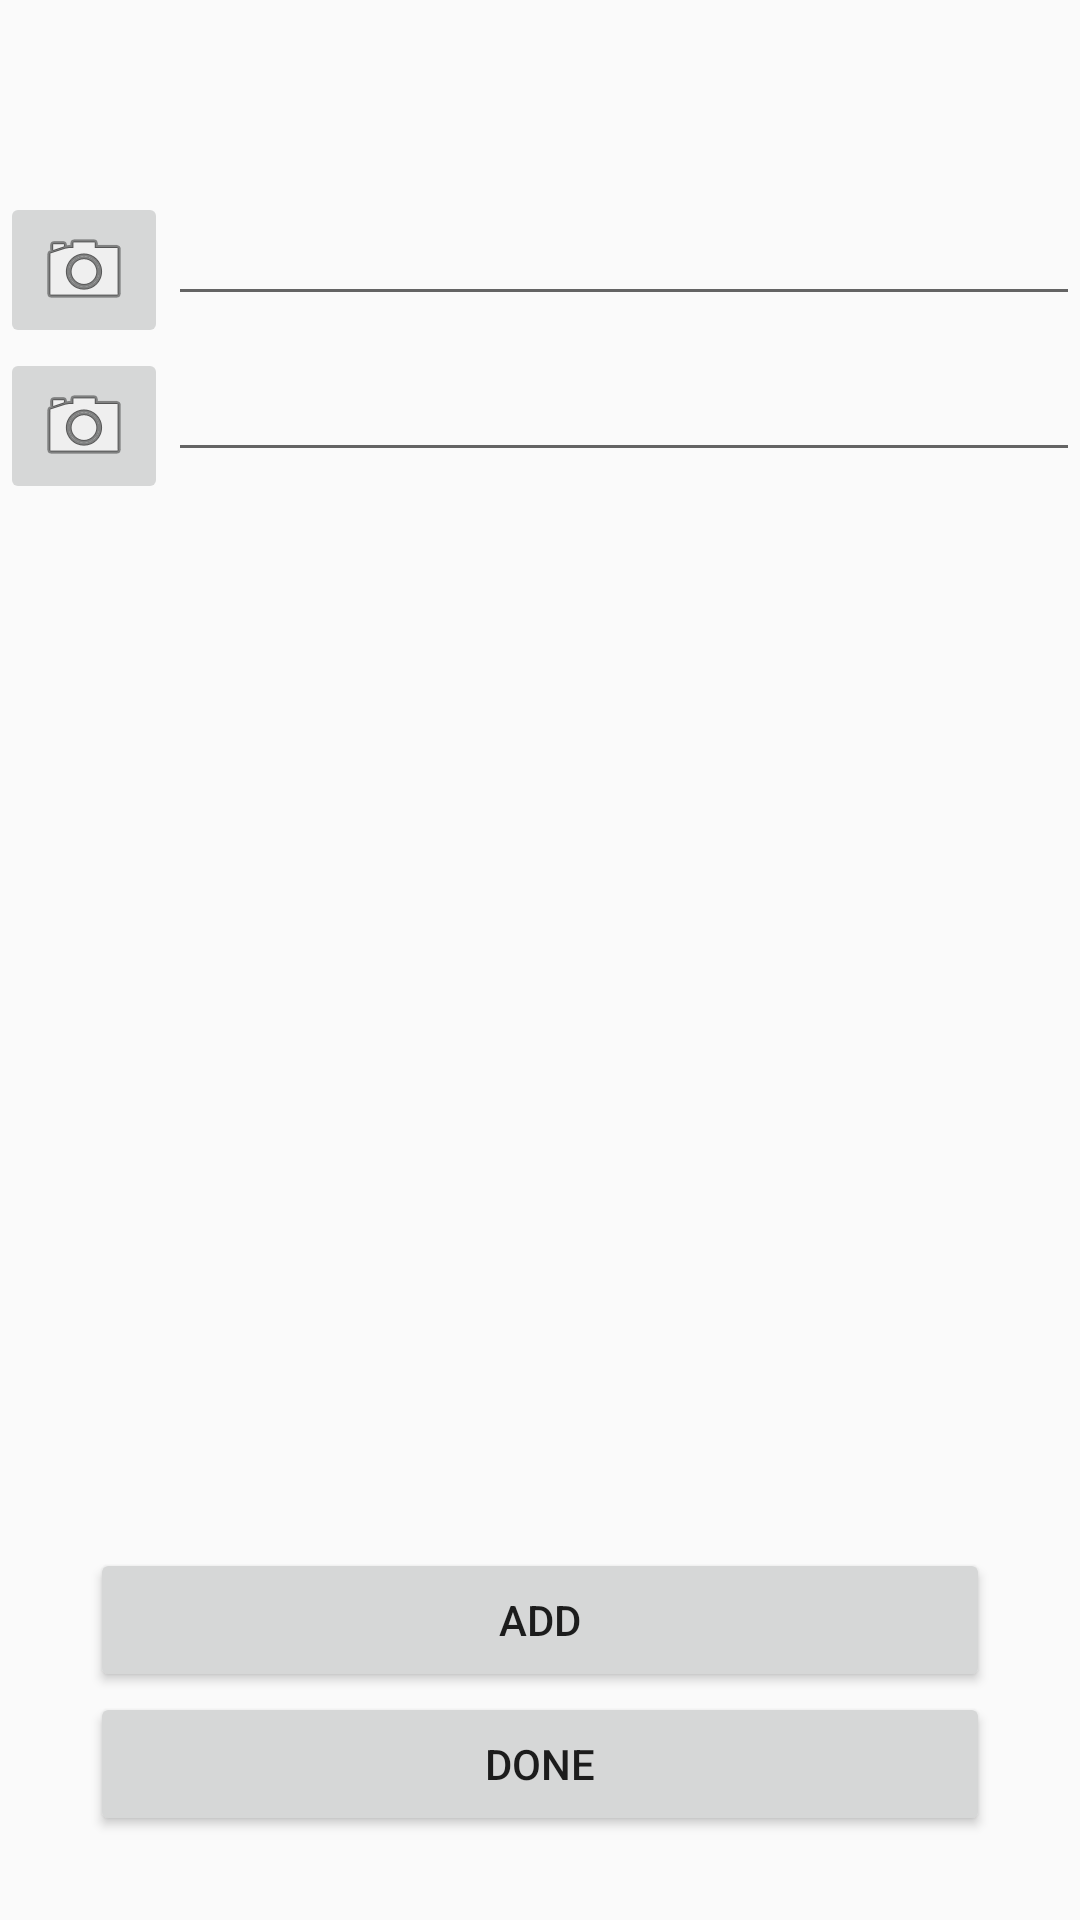

Icons on this 1080 × 1920 Android screen, each with its box as bbox=[x1, y1, x2, y2]:
camera: bbox=[12, 210, 156, 330], bbox=[12, 366, 156, 486]
